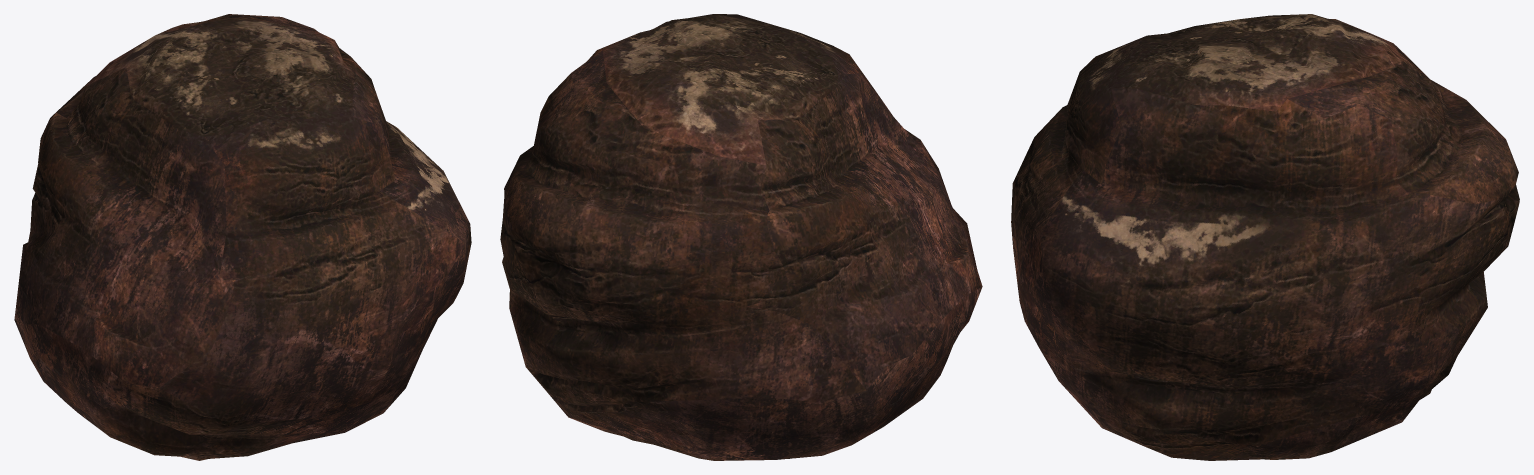
Rendered from rock_red_small08.dae.
3 views of the same model, side by side, from view 1: azimuth 30°, elevation 25°; view 2: azimuth 150°, elevation 25°; view 3: azimuth 270°, elevation 25° (orthographic). The views are drawn at different scales.
Parts seen in each view (by area): view 1: Mesh; view 2: Mesh; view 3: Mesh.
Boxes of the visible parts, x1,y1,x2,y2 form: Mesh: [14, 14, 471, 460]; Mesh: [500, 14, 982, 460]; Mesh: [1011, 14, 1519, 460].
Size of the model in its own units: 1.18 by 1.06 by 1.23.
